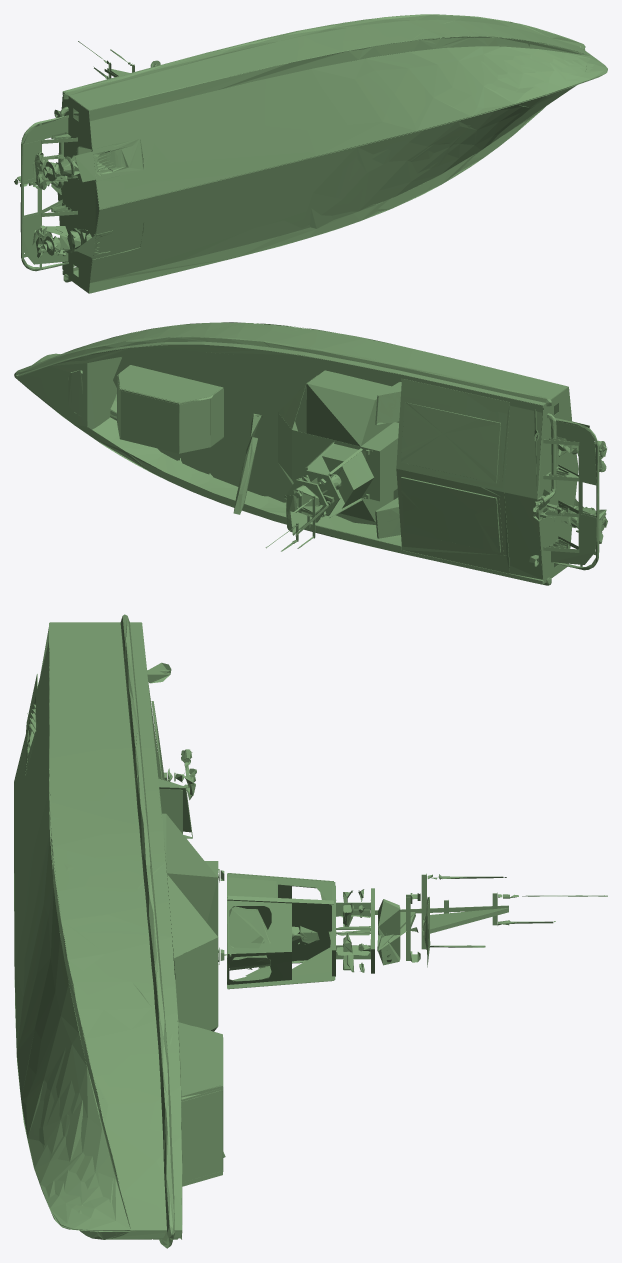
Rendered from inspear.dae.
3 views of the same model, one above another, from view 1: azimuth 30°, elevation 25°; view 2: azimuth 150°, elevation 25°; view 3: azimuth 270°, elevation 25° (orthographic). The views are drawn at different scales.
Parts seen in each view (by area): view 1: inspear_ned_s; view 2: inspear_ned_s; view 3: inspear_ned_s.
Boxes of the visible parts, x1,y1,x2,y2 form: inspear_ned_s: (14, 14, 607, 293); inspear_ned_s: (14, 322, 607, 585); inspear_ned_s: (14, 614, 607, 1248).
Bounding box in the file's own units: 9.98 × 5.07 × 3.15.
